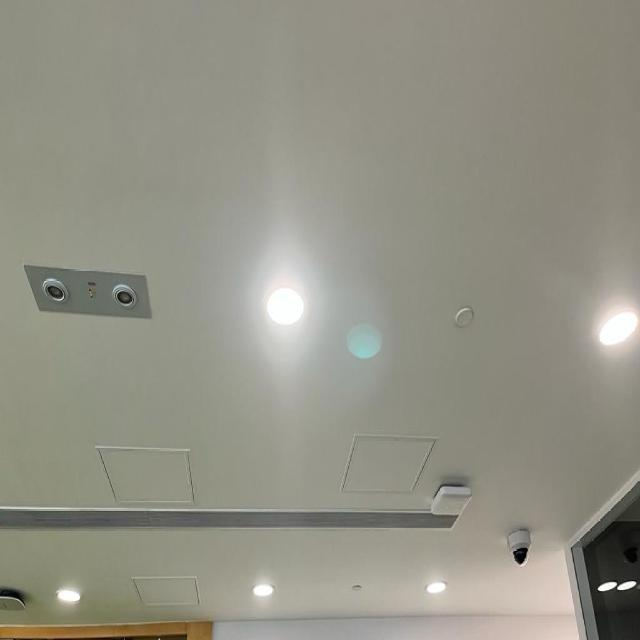Light-Opened: (590, 305, 640, 352), (264, 280, 308, 330), (53, 584, 83, 610), (251, 576, 279, 602), (425, 574, 450, 602)
